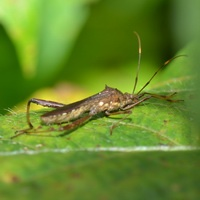insect: (11, 32, 185, 138), (29, 102, 66, 131)
